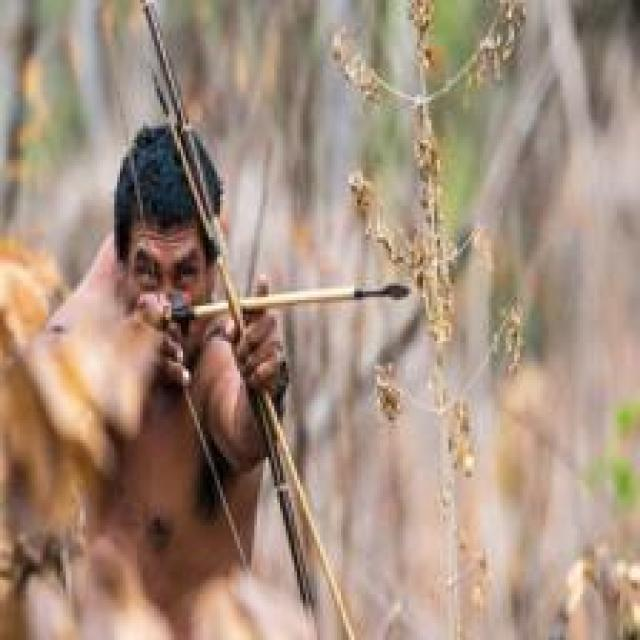X-Bow: (158, 17, 393, 640)
